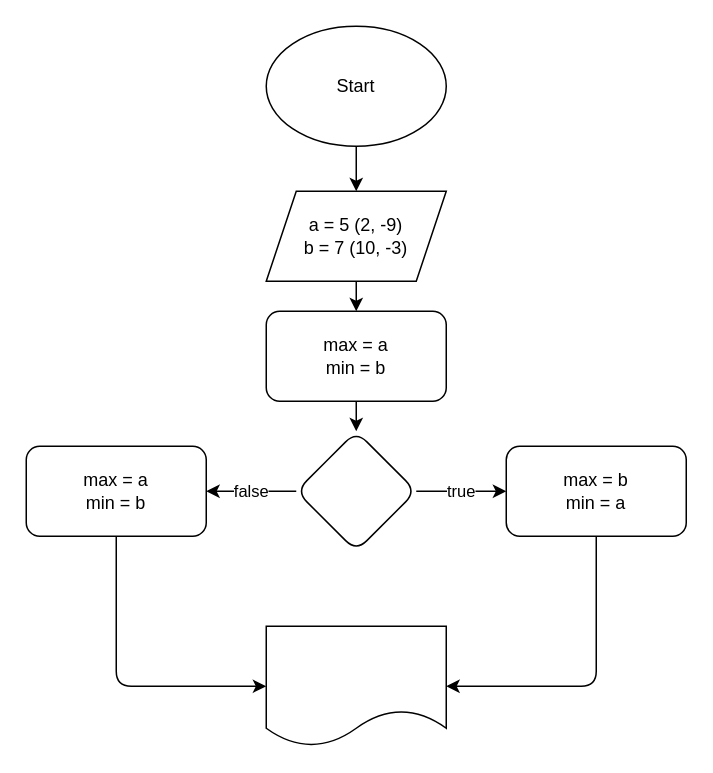
Some shapes in this 713 by 773 pixel diagram are drawn without their labels. The shapes that lost their labels are listed below. From the top down, each one's centre as x and y in pixels, then its label:
At (355,490): "b > max?".
At (355,685): "max min".
